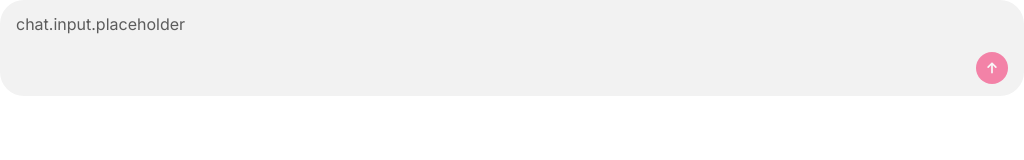
it: MessageComposer frame limit › sends a message below the Engine.IO 1 MB frame limit
Type "hello" into the text box. click: x=512, y=32
box: [16,12,1008,52]
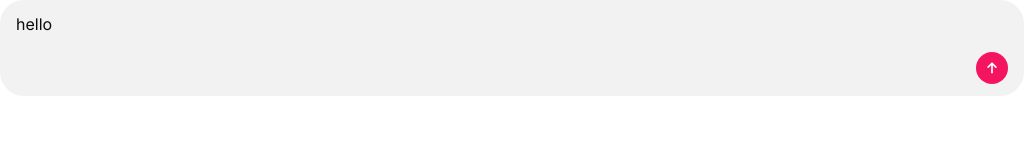
Click the button. click: x=992, y=68
box: [976,52,1008,84]
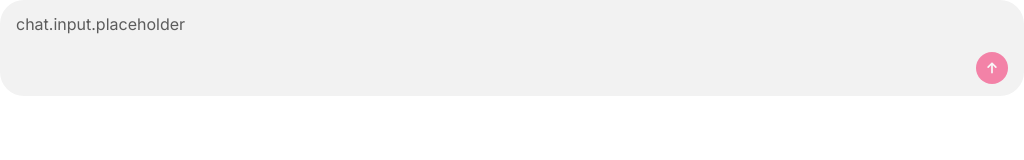
Expected: the text box is empty, [16,12,1008,52]
